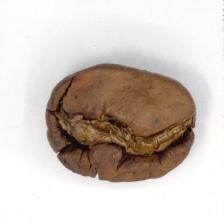NG: (53, 99, 187, 183)
